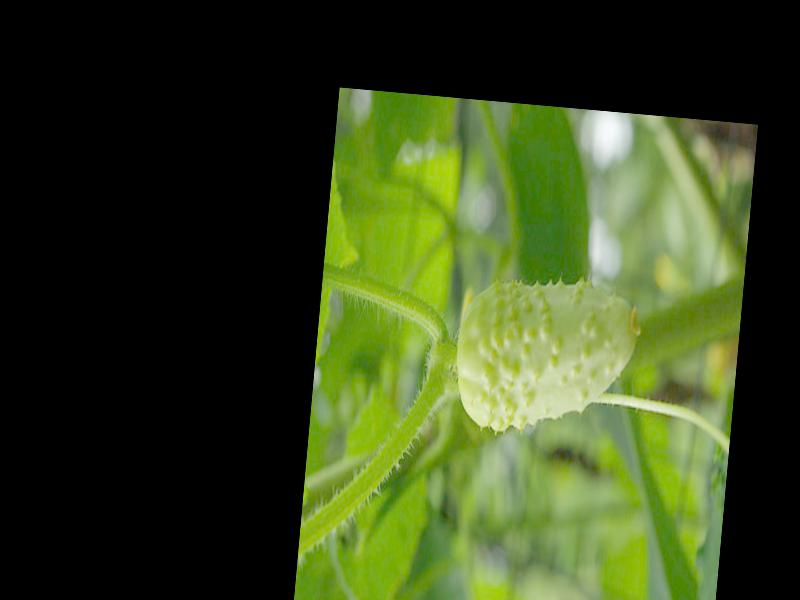Cucumber: (449, 273, 645, 444)
